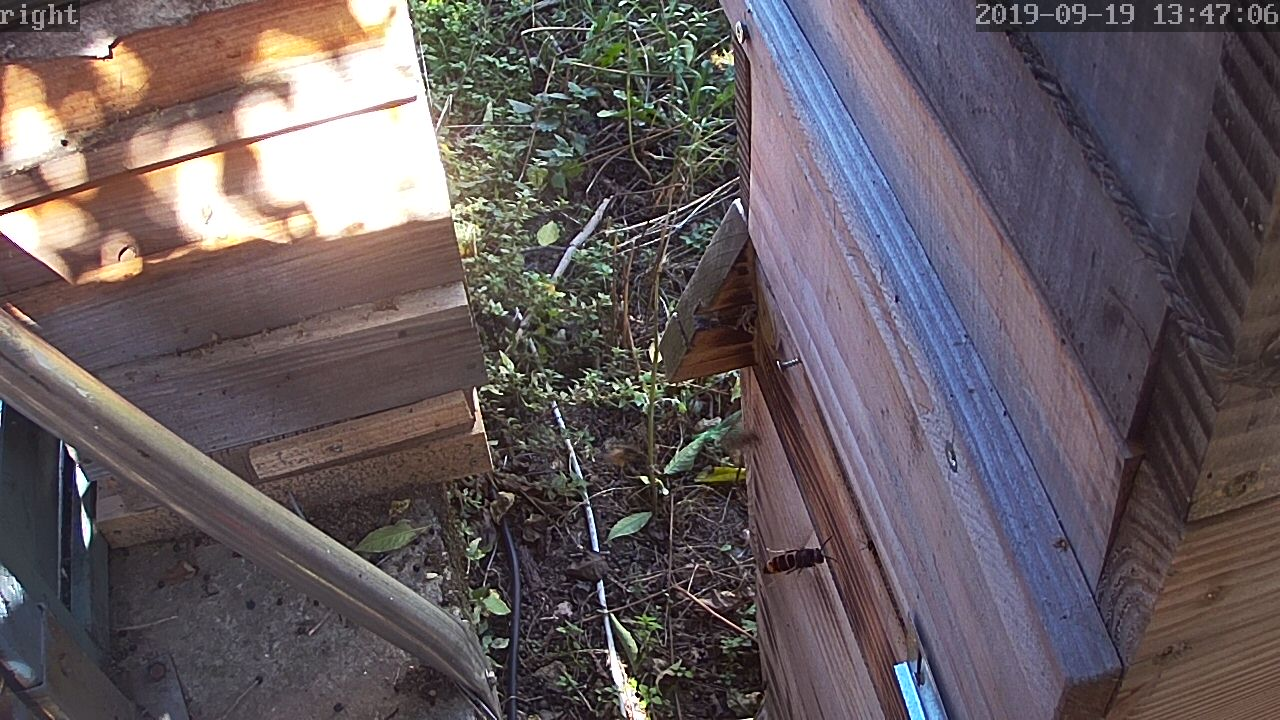hornet: (759, 543, 835, 577)
